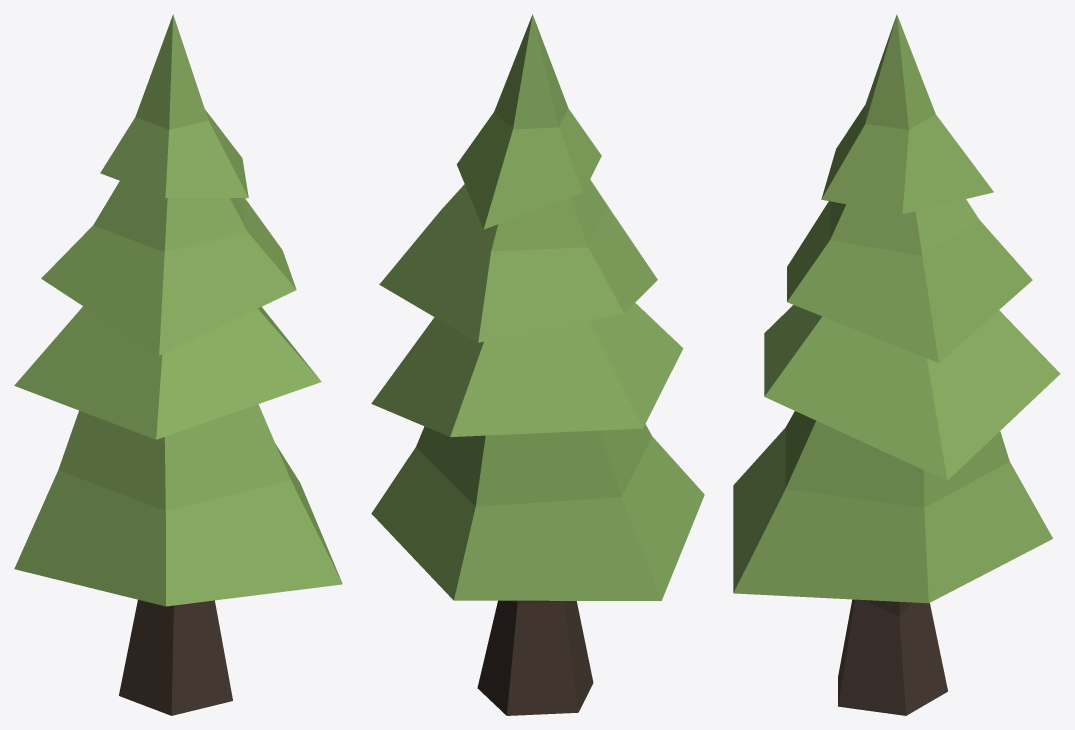
Rendered from lightgreen_conetree4.fbx.
3 renders of one model, left to right at view 1: azimuth 30°, elevation 25°; view 2: azimuth 150°, elevation 25°; view 3: azimuth 270°, elevation 25°, orthographic.
Parts seen in each view (by area): view 1: lightgreen_conetree4; view 2: lightgreen_conetree4; view 3: lightgreen_conetree4.
Part boxes in pixels (<box>): lightgreen_conetree4: <box>14,14,342,715</box>; lightgreen_conetree4: <box>371,14,704,715</box>; lightgreen_conetree4: <box>733,14,1060,715</box>.
Bounding box in the file's own units: 529 × 1190 × 521.
